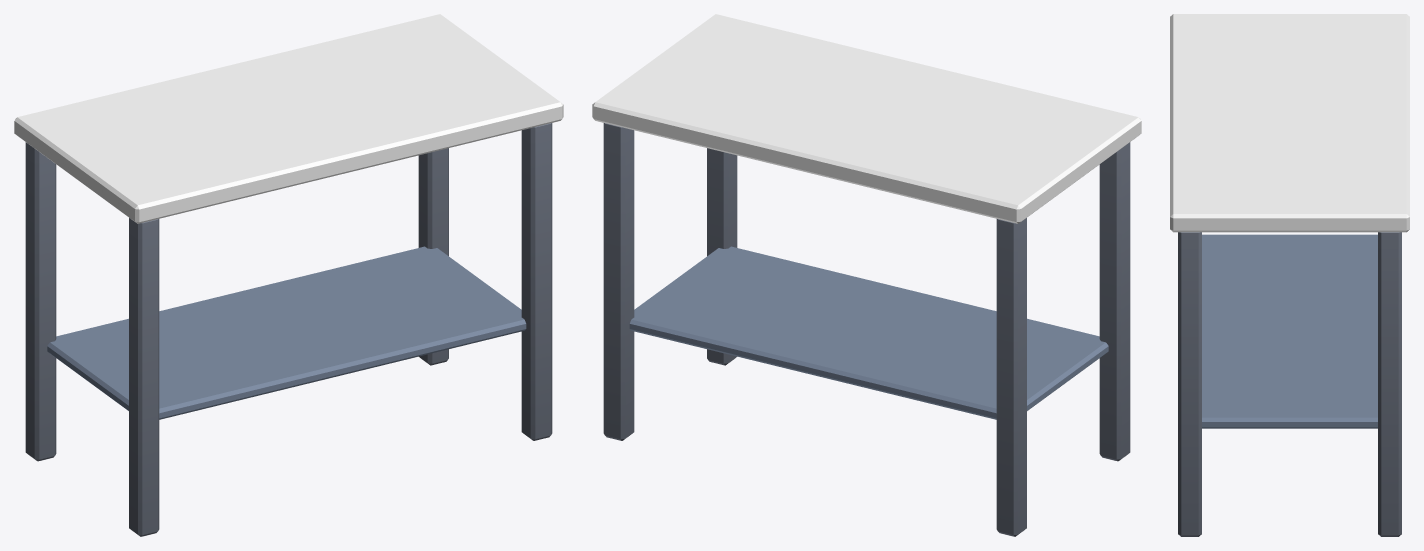
File: lab_bench.glb
3 views of the same model, side by side, from view 1: azimuth 30°, elevation 25°; view 2: azimuth 150°, elevation 25°; view 3: azimuth 270°, elevation 25° (orthographic). The views are drawn at different scales.
Visible parts, largest first — view 1: lab_bench; view 2: lab_bench; view 3: lab_bench.
Boxes of the visible parts, x1=… form: lab_bench: x1=14, y1=14, x2=563, y2=536; lab_bench: x1=592, y1=14, x2=1141, y2=536; lab_bench: x1=1170, y1=14, x2=1409, y2=536.
Size of the model in its own units: 1.2 by 0.9 by 0.6.
Materials: 1 (1 with a texture image).
